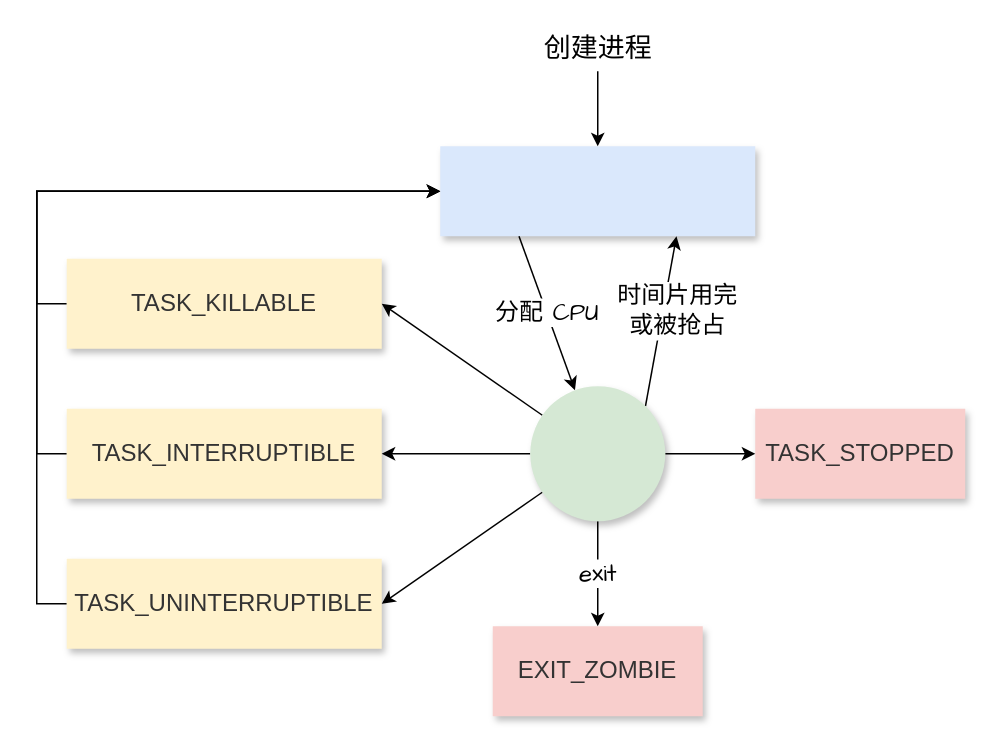
Some shapes in this 1001 by 752 pixel diagram are drawn without their labels. The shapes that lost their labels are listed below. From the top down, each one's centre as x and y in pixels, then its label:
(x=599, y=193): TASK_RUNNING
(x=599, y=455): 运行
